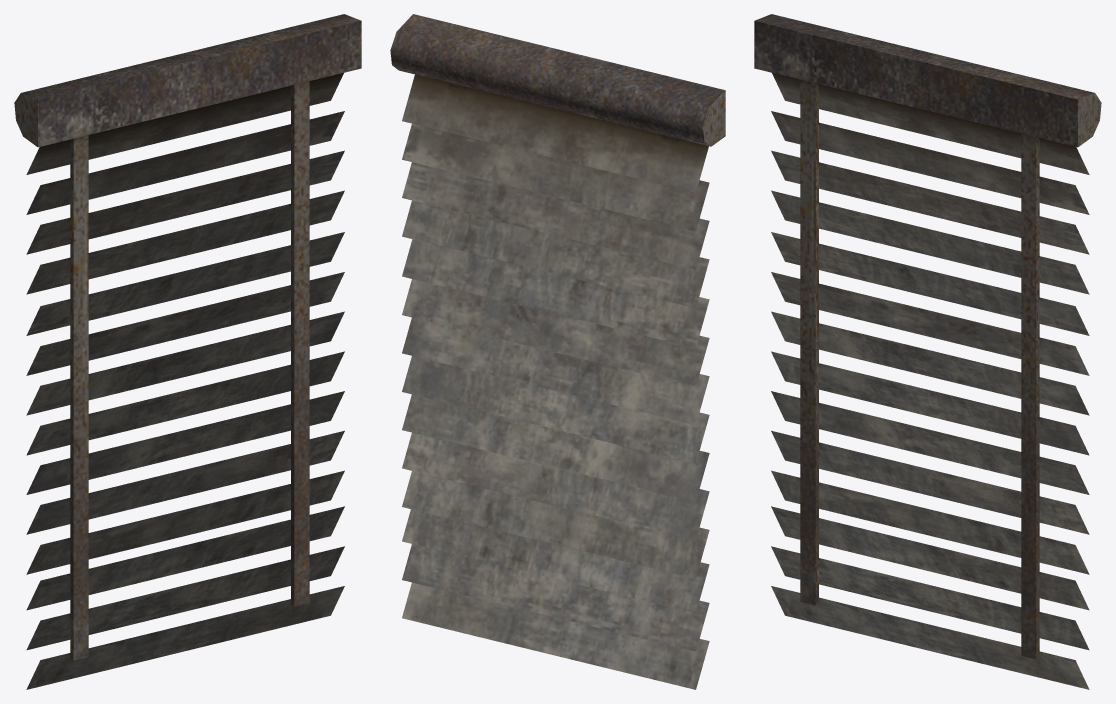
The model's file is SmallBlinds.FBX.
The picture shows the model from 3 angles, left to right: view 1: azimuth 30°, elevation 25°; view 2: azimuth 150°, elevation 25°; view 3: azimuth 330°, elevation 25°; orthographic projection. The views are drawn at different scales.
Visible parts, largest first — view 1: SmallBlinds; view 2: SmallBlinds; view 3: SmallBlinds.
Part boxes in pixels (x1,y1,x2,y2): SmallBlinds: (14, 14, 361, 689); SmallBlinds: (390, 14, 725, 689); SmallBlinds: (754, 14, 1101, 689).
Bounding box in the file's own units: 106 × 191 × 13.39.
